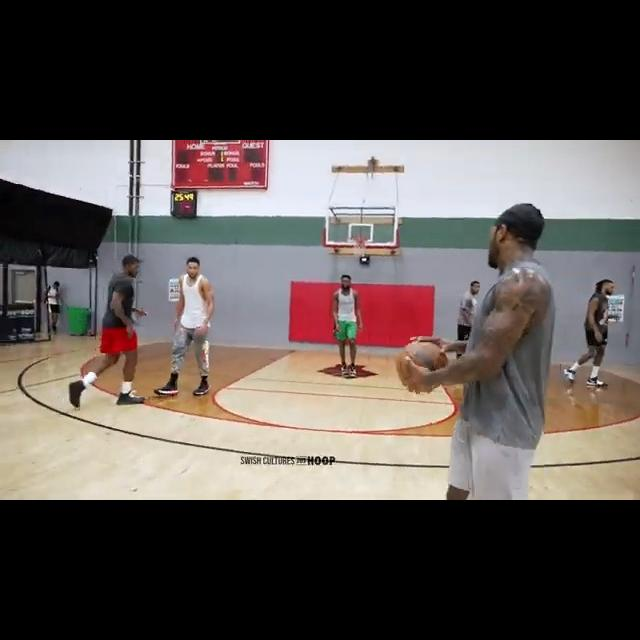basketball: (397, 340, 452, 394)
hoop: (351, 236, 371, 257)
